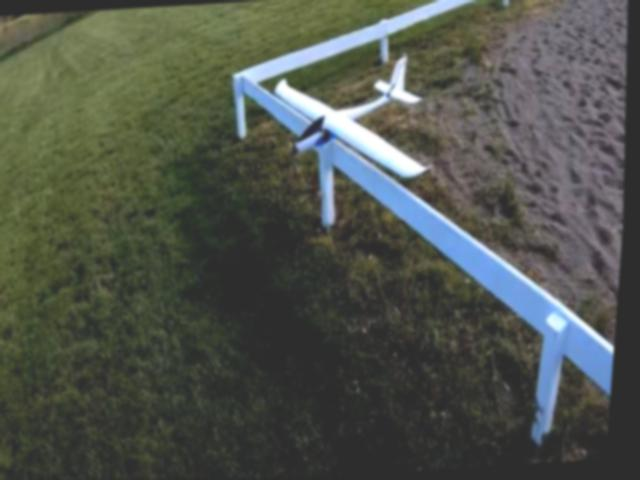iha: (266, 52, 445, 189)
